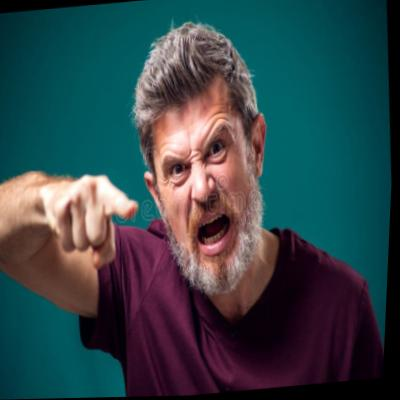angry: (152, 95, 267, 293)
